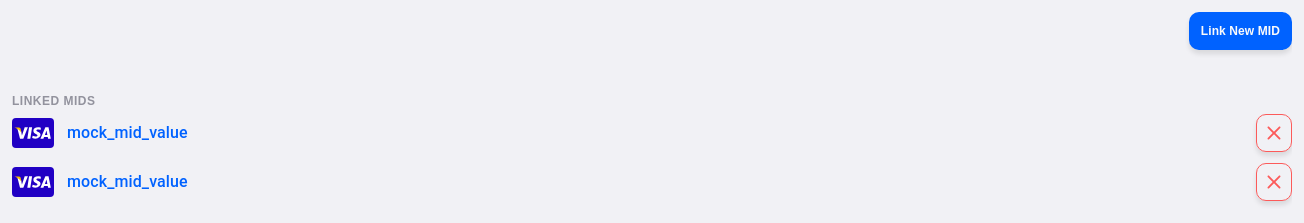
Test: SingleViewLocationMids › should render the correct available mid notification when no mids are available
Click the button "Link New MID" at [1240, 31], box [1189, 12, 1292, 50]
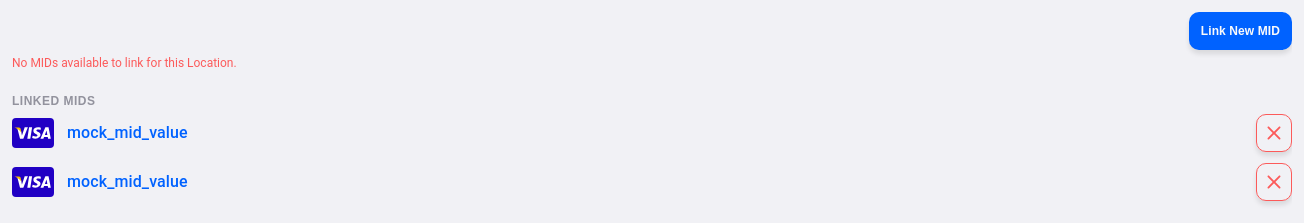
Expected: the text "No MIDs available to link for this Location." is shown, [12, 56, 237, 70]
